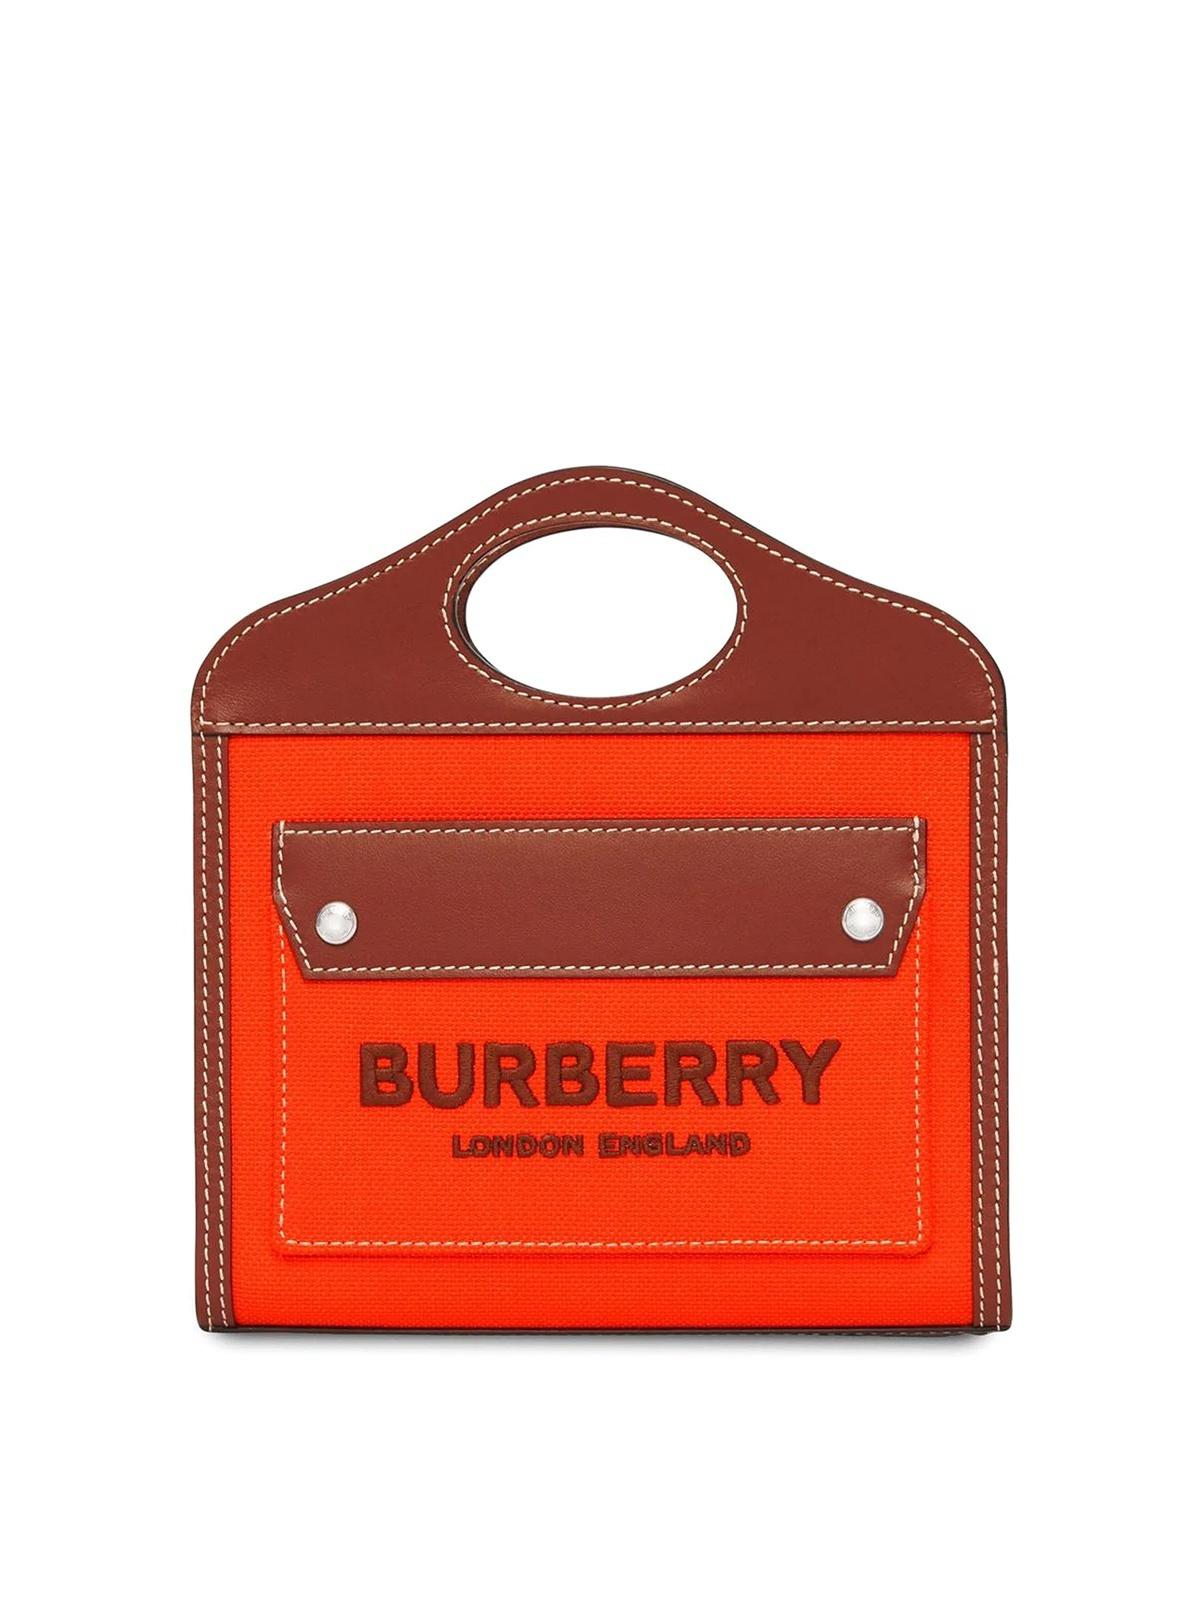BURBERRY: (358, 1038, 841, 1110)
